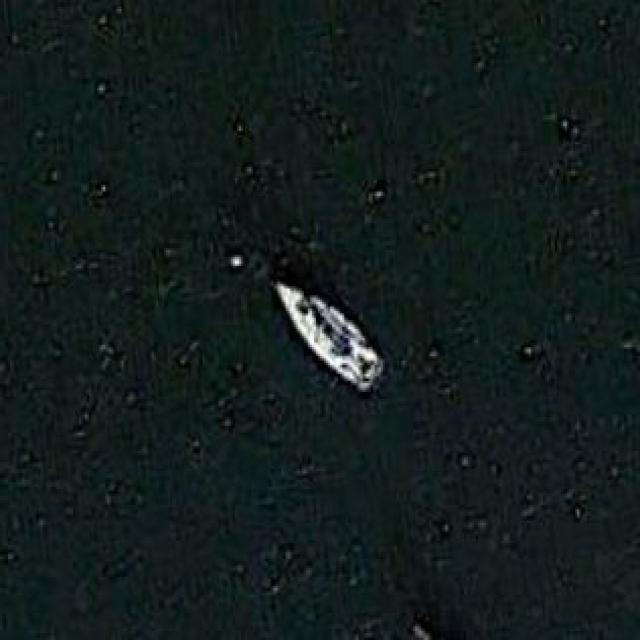ship: (267, 273, 387, 390)
